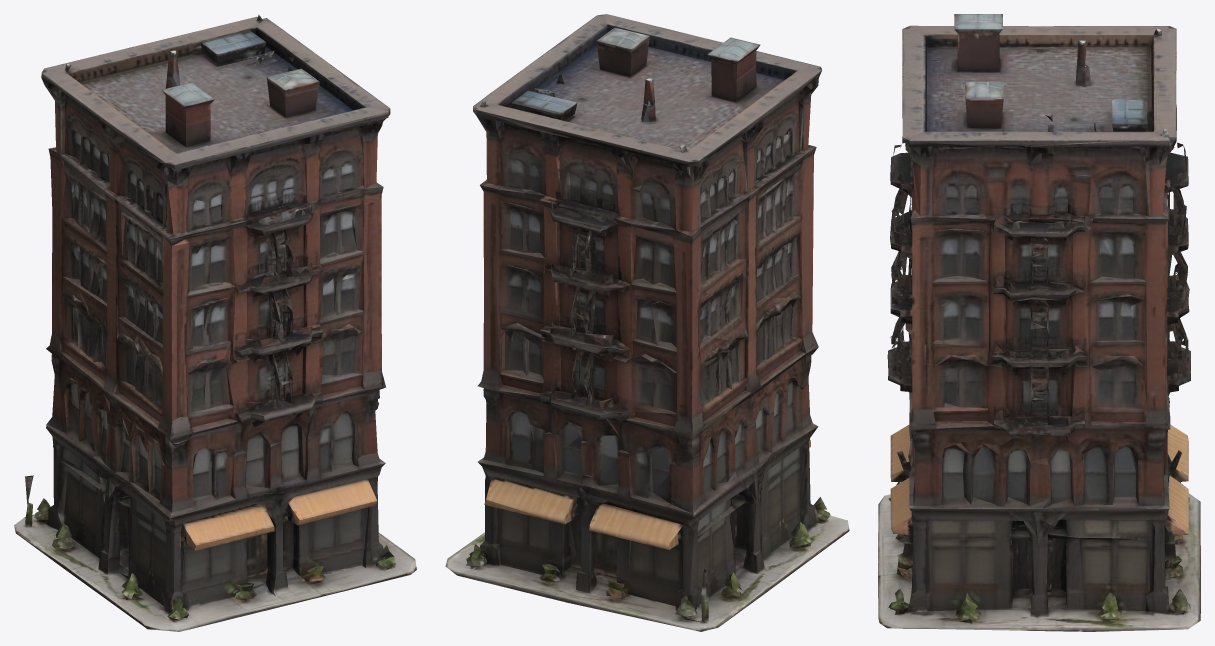
Rendered from brownstone.glb.
3 views of the same model, side by side, from view 1: azimuth 30°, elevation 25°; view 2: azimuth 150°, elevation 25°; view 3: azimuth 270°, elevation 25° (orthographic). The views are drawn at different scales.
Parts seen in each view (by area): view 1: brownstone; view 2: brownstone; view 3: brownstone.
Part boxes in pixels (<box>): brownstone: <box>14,14,416,631</box>; brownstone: <box>445,14,849,631</box>; brownstone: <box>878,14,1200,631</box>.
Size of the model in its own units: 1.09 by 1.9 by 1.08.
Materials: 1 (1 with a texture image).
